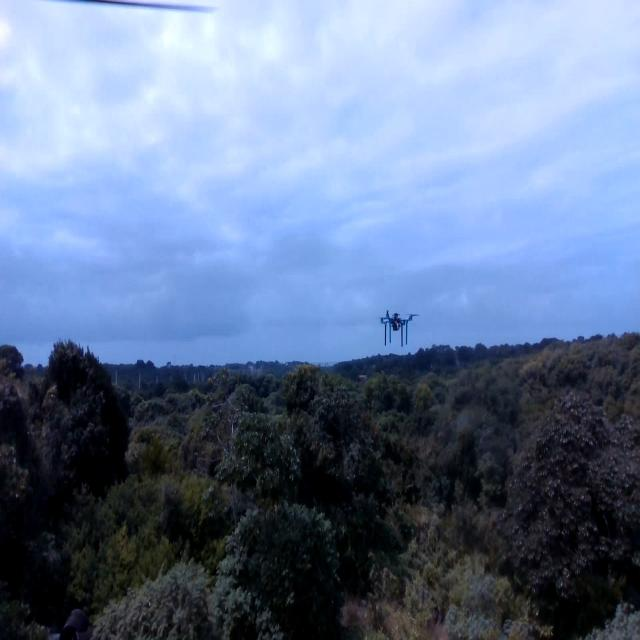-uav-: (374, 292, 423, 355)
